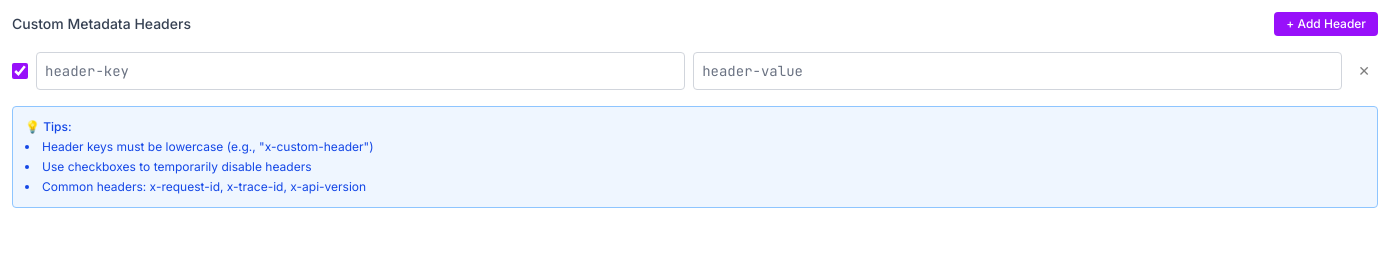
Test: MetadataTab › Adding and removing entries › should add new entry when clicking add button
Click the button "+ Add Header". click: point(1326, 24)
box: [1274,12,1378,36]
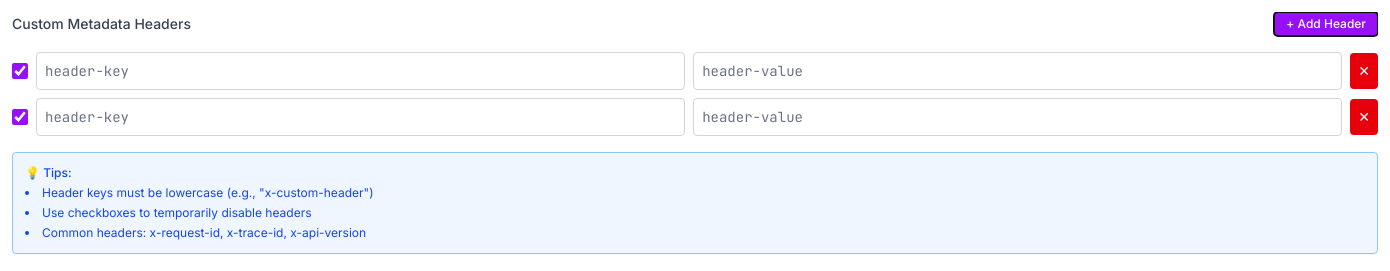
Now the number of fields with placeholder "header-key" is 2, box [36,52,685,90]; [36,98,685,136]
